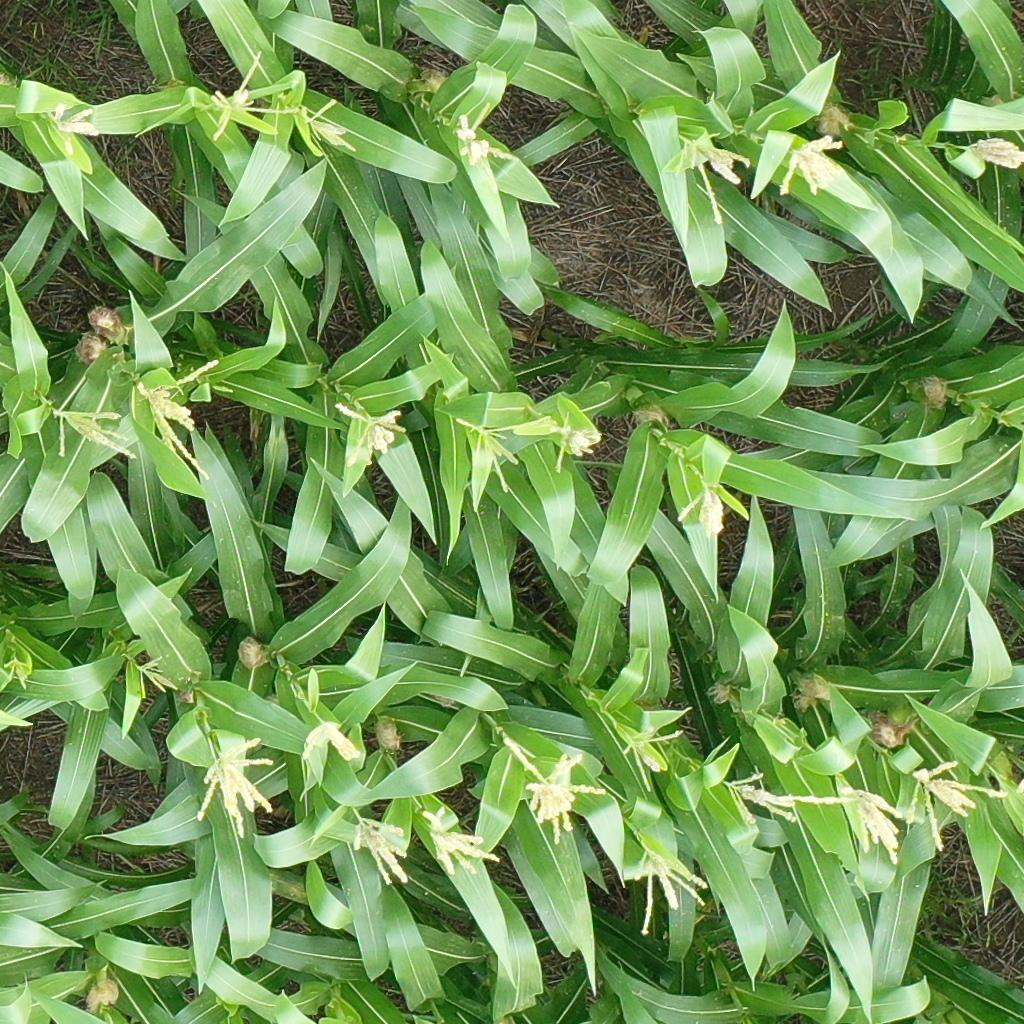Tassel: (136, 355, 222, 482), (798, 784, 924, 869), (456, 389, 548, 498), (194, 734, 275, 840), (914, 759, 1005, 853), (206, 51, 298, 143), (522, 753, 606, 846), (635, 840, 710, 939), (678, 130, 748, 226), (421, 807, 501, 876), (53, 405, 138, 466), (335, 398, 405, 466), (777, 134, 847, 198), (351, 814, 413, 886), (618, 726, 683, 793), (724, 774, 799, 828), (675, 478, 734, 538), (302, 96, 358, 154), (451, 114, 514, 165), (48, 102, 106, 153), (549, 413, 602, 468), (299, 721, 364, 763), (134, 654, 180, 697), (969, 136, 1024, 170), (3, 657, 35, 693)
